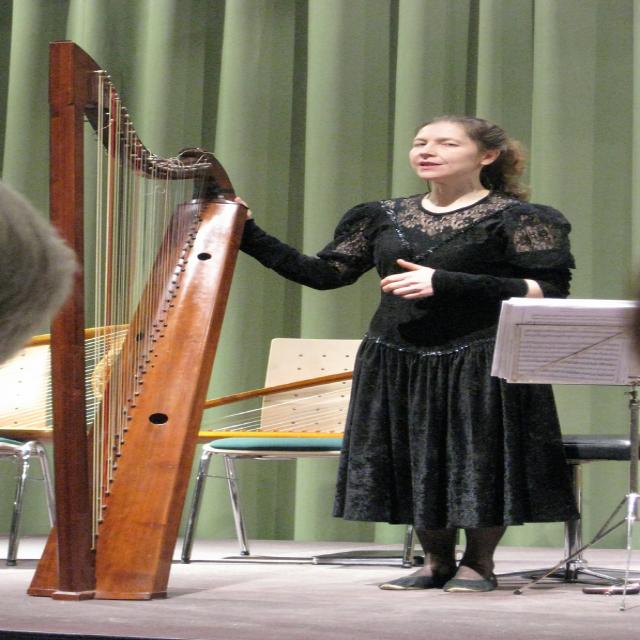harp: (22, 34, 250, 605)
